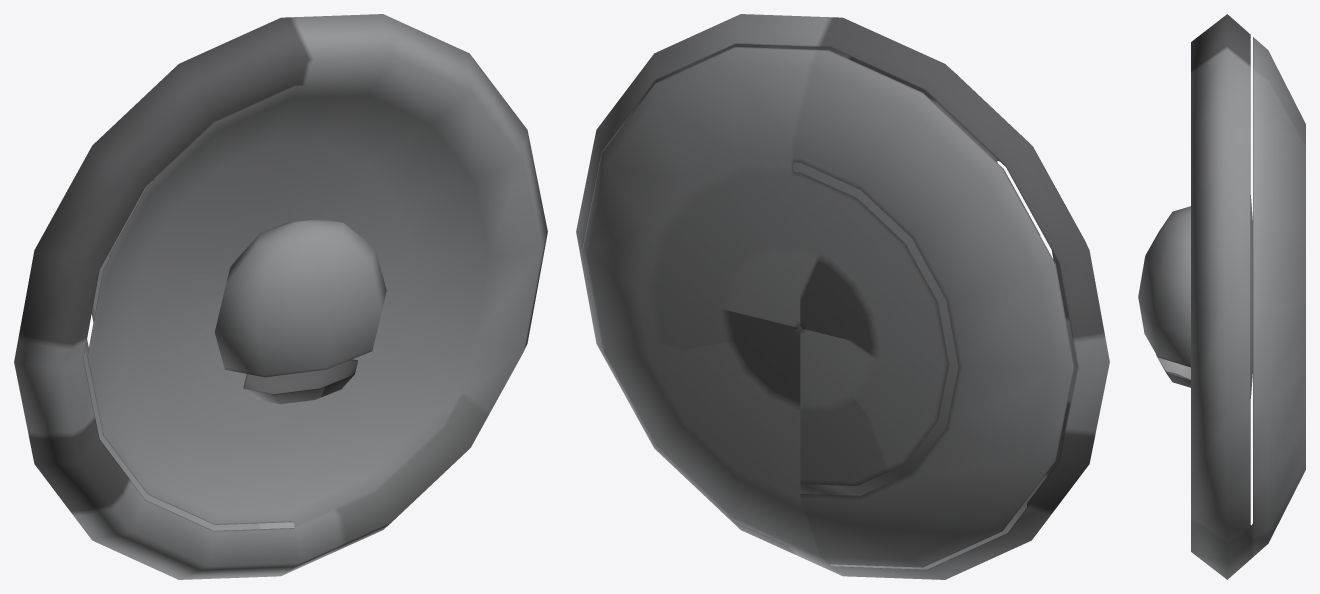
3 renders of one model, left to right at view 1: azimuth 30°, elevation 25°; view 2: azimuth 150°, elevation 25°; view 3: azimuth 270°, elevation 25°, orthographic. The views are drawn at different scales.
Bounding box in the file's own units: 0.4453 × 0.4453 × 0.1318.
